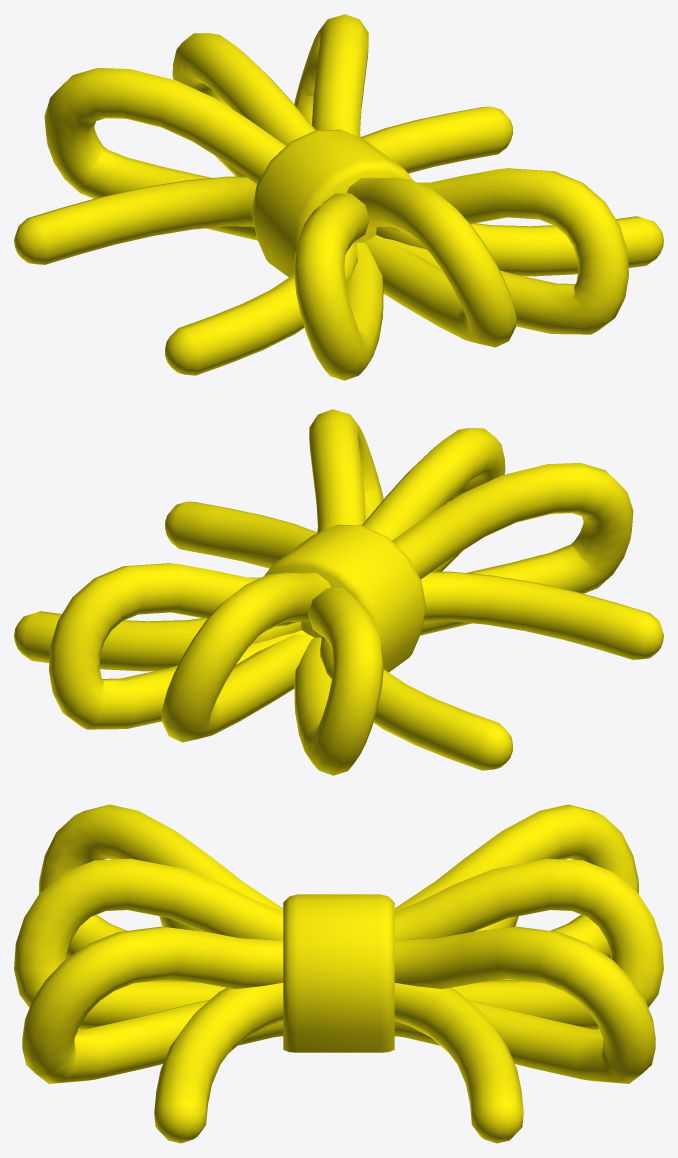
File: Cake_ThemeBows_B.FBX
3 views of the same model, one above another, from view 1: azimuth 30°, elevation 25°; view 2: azimuth 150°, elevation 25°; view 3: azimuth 270°, elevation 25° (orthographic). The views are drawn at different scales.
Visible parts, largest first — view 1: Cake_ThemeBows_B; view 2: Cake_ThemeBows_B; view 3: Cake_ThemeBows_B.
Part boxes in pixels (box(x1,y1,x2,y2)): Cake_ThemeBows_B: box(14, 14, 663, 380); Cake_ThemeBows_B: box(14, 409, 663, 775); Cake_ThemeBows_B: box(14, 804, 663, 1143).
Size of the model in its own units: 102866 by 30826 by 111508.
